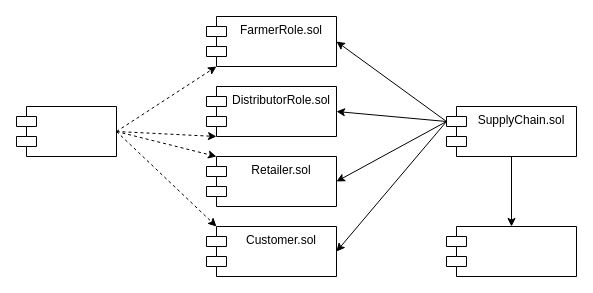
The diagram is 593 pixels wide and 293 high, and some of its shapes have lost their labels. Each missing label, with the box of its shape:
Ownable.sol: (446, 226, 576, 276)
Roles.sol: (16, 106, 116, 156)
